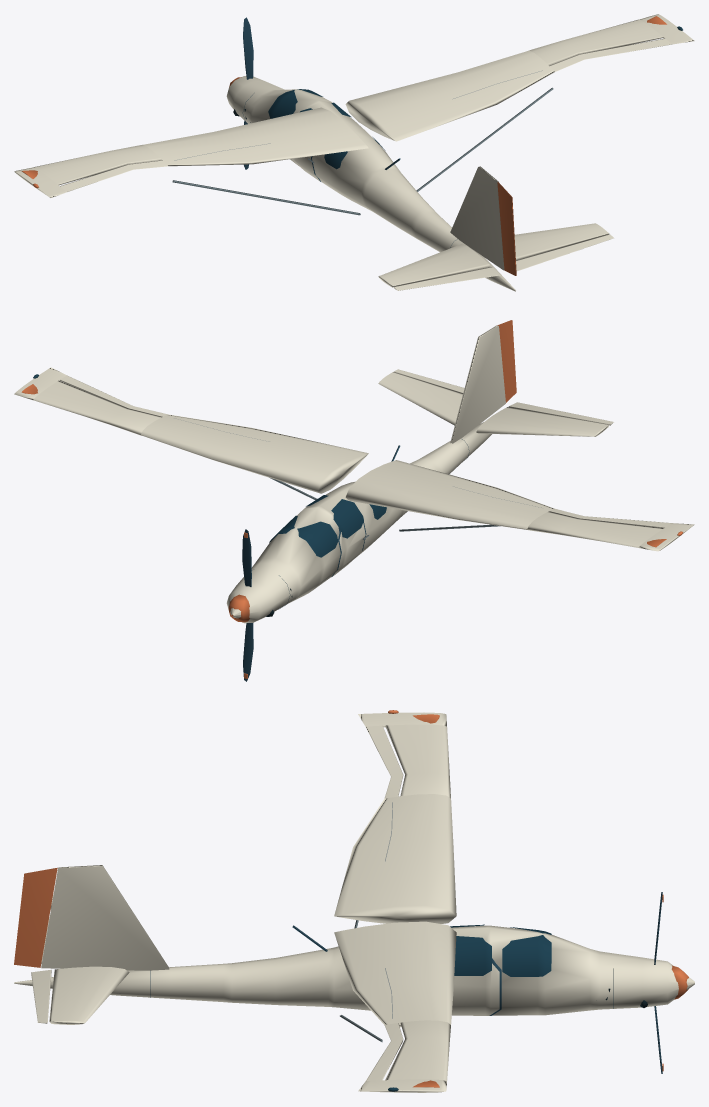
The model's file is player-skylark-mobile-v3.glb.
The picture shows the model from 3 angles, top to bottom: view 1: azimuth 30°, elevation 25°; view 2: azimuth 150°, elevation 25°; view 3: azimuth 270°, elevation 25°; orthographic projection. The views are drawn at different scales.
Parts seen in each view (by area): view 1: hull, rudder, glass, metal, aileron-right, elevator-right, elevator-left, aileron-left, propeller; view 2: hull, glass, rudder, propeller, aileron-right, accent, aileron-left, elevator-left; view 3: hull, glass, rudder, aileron-left, aileron-right, elevator-right, accent.
Part boxes in pixels (bbox=[...]): hull: bbox=[14, 14, 694, 291]; rudder: bbox=[497, 182, 516, 275]; glass: bbox=[268, 26, 682, 169]; metal: bbox=[172, 87, 553, 215]; aileron-right: bbox=[549, 38, 672, 71]; elevator-right: bbox=[516, 234, 613, 271]; elevator-left: bbox=[394, 267, 500, 290]; aileron-left: bbox=[60, 160, 167, 191]; propeller: bbox=[243, 17, 253, 169]; hull: bbox=[14, 325, 694, 623]; glass: bbox=[33, 374, 386, 557]; rudder: bbox=[497, 320, 516, 402]; propeller: bbox=[242, 529, 253, 681]; aileron-right: bbox=[60, 375, 168, 417]; accent: bbox=[21, 384, 683, 622]; aileron-left: bbox=[549, 509, 671, 527]; elevator-left: bbox=[508, 402, 613, 425]; hull: bbox=[14, 712, 694, 1092]; glass: bbox=[388, 924, 551, 1091]; rudder: bbox=[14, 867, 57, 967]; aileron-left: bbox=[366, 725, 403, 798]; aileron-right: bbox=[366, 1023, 403, 1081]; elevator-right: bbox=[31, 969, 51, 1023]; accent: bbox=[388, 710, 688, 1087].
Size of the model in its own units: 11.87 by 3.04 by 9.
